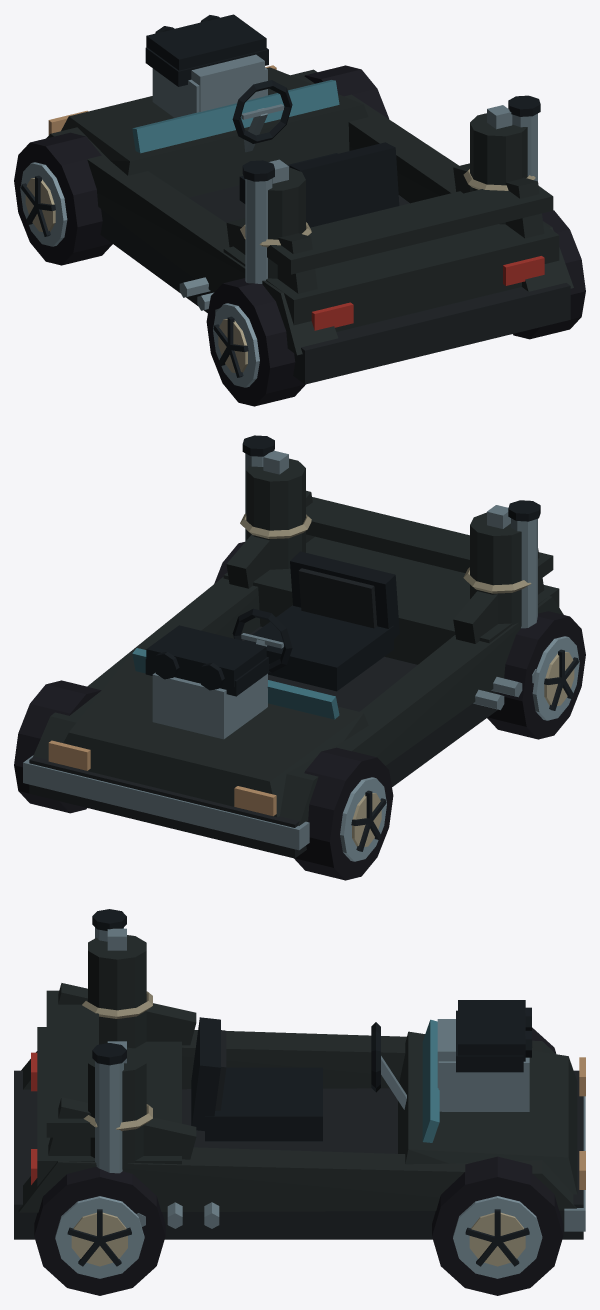
Rendered from kart.glb.
The picture shows the model from 3 angles, top to bottom: view 1: azimuth 30°, elevation 25°; view 2: azimuth 150°, elevation 25°; view 3: azimuth 270°, elevation 25°; orthographic projection. The views are drawn at different scales.
Visible parts, largest first — view 1: identity-interceptor-interceptor-fastback-and-supercharger, wheel-front-left, wheel-rear-left, identity-interceptor-driver-cockpit, identity-interceptor-motif-tanks, identity-interceptor-motif-blower, identity-interceptor-motif-exhaust, wheel-rear-right, wheel-front-right; view 2: identity-interceptor-interceptor-fastback-and-supercharger, identity-interceptor-driver-cockpit, identity-interceptor-motif-tanks, wheel-front-left, wheel-rear-left, identity-interceptor-motif-blower, wheel-front-right, identity-interceptor-motif-exhaust; view 3: identity-interceptor-interceptor-fastback-and-supercharger, wheel-front-right, wheel-rear-right, identity-interceptor-driver-cockpit, identity-interceptor-motif-tanks, identity-interceptor-motif-blower, identity-interceptor-motif-exhaust.
Boxes of the visible parts, <box> form: identity-interceptor-interceptor-fastback-and-supercharger: <box>46,47,573,384</box>; wheel-front-left: <box>14,132,112,265</box>; wheel-rear-left: <box>206,278,305,406</box>; identity-interceptor-driver-cockpit: <box>232,80,399,227</box>; identity-interceptor-motif-tanks: <box>240,105,535,278</box>; identity-interceptor-motif-blower: <box>146,14,266,111</box>; identity-interceptor-motif-exhaust: <box>242,95,540,283</box>; wheel-rear-right: <box>513,210,585,339</box>; wheel-front-right: <box>304,65,388,118</box>; identity-interceptor-interceptor-fastback-and-supercharger: <box>23,490,563,858</box>; identity-interceptor-driver-cockpit: <box>232,551,399,691</box>; identity-interceptor-motif-tanks: <box>240,450,531,626</box>; wheel-front-left: <box>294,747,393,880</box>; wheel-rear-left: <box>487,611,585,739</box>; identity-interceptor-motif-blower: <box>146,625,266,690</box>; wheel-front-right: <box>14,680,101,813</box>; identity-interceptor-motif-exhaust: <box>242,435,540,628</box>; identity-interceptor-interceptor-fastback-and-supercharger: <box>14,983,585,1239</box>; wheel-front-right: <box>432,1156,563,1295</box>; wheel-rear-right: <box>34,1166,165,1295</box>; identity-interceptor-driver-cockpit: <box>191,1017,406,1141</box>; identity-interceptor-motif-tanks: <box>82,928,152,1169</box>; identity-interceptor-motif-blower: <box>437,1000,531,1088</box>; identity-interceptor-motif-exhaust: <box>92,909,126,1173</box>.
Bounding box in the file's own units: 2.07 × 1.33 × 2.96.
